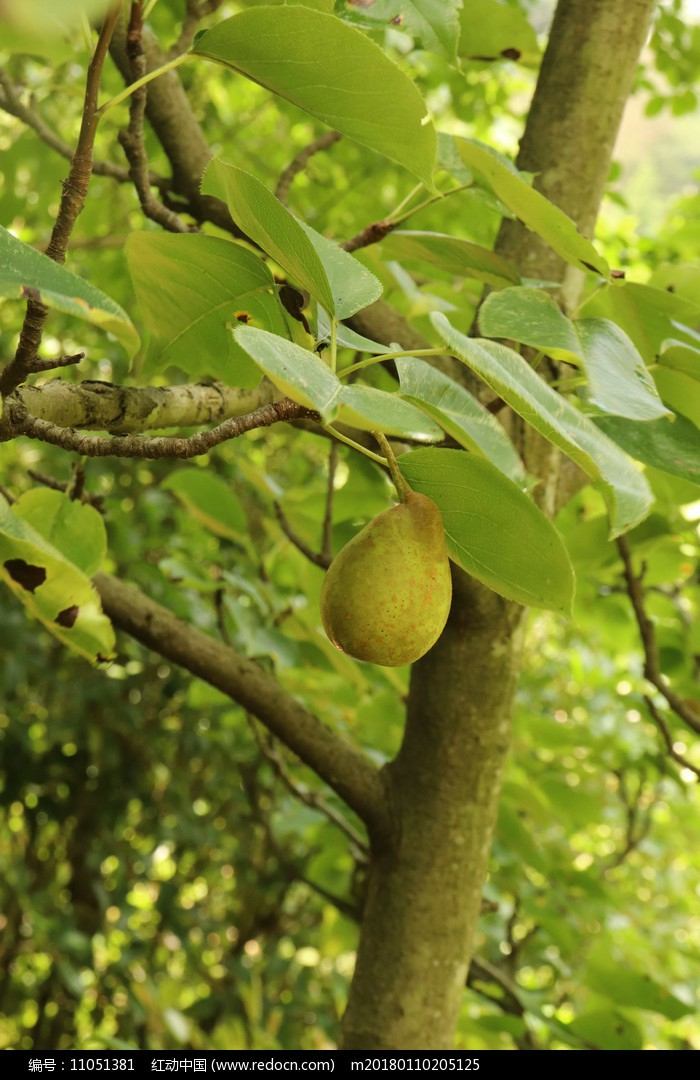pear: (320, 494, 454, 666)
